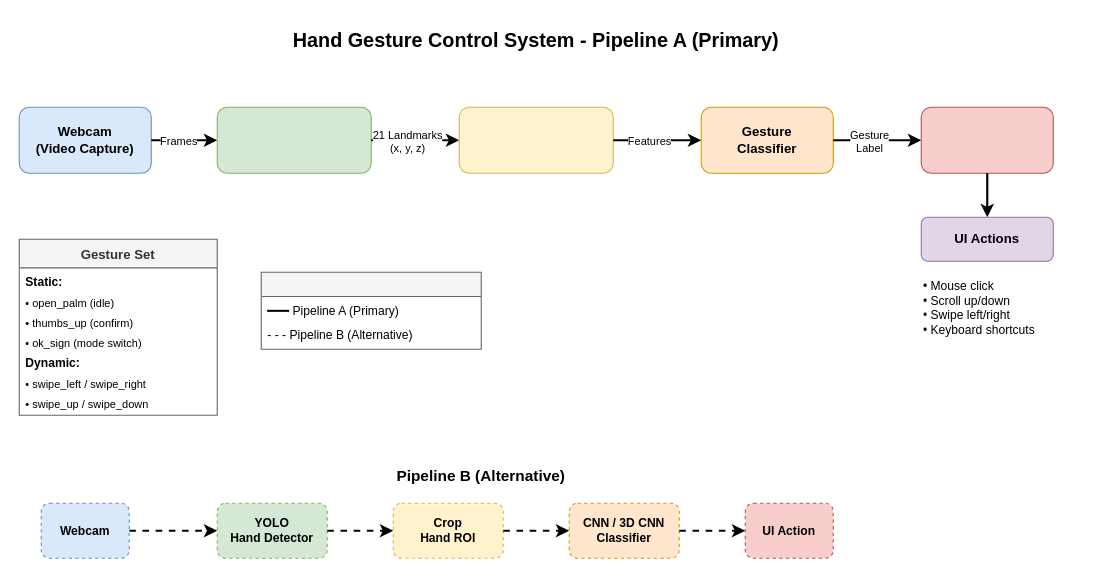
The diagram is 1095 pixels wide and 578 high, and some of its shapes have lost their labels. The shapes that lost their labels are listed below. From the top down, each one's box as (x1, y1, x2, y2) in pixels, then its label:
(216, 106, 371, 173): MediaPipe Hands (Landmark Detection)
(458, 106, 613, 173): Temporal Model (LSTM / Transformer)
(920, 106, 1053, 173): UI Action Mapper
(260, 271, 481, 349): Legend
